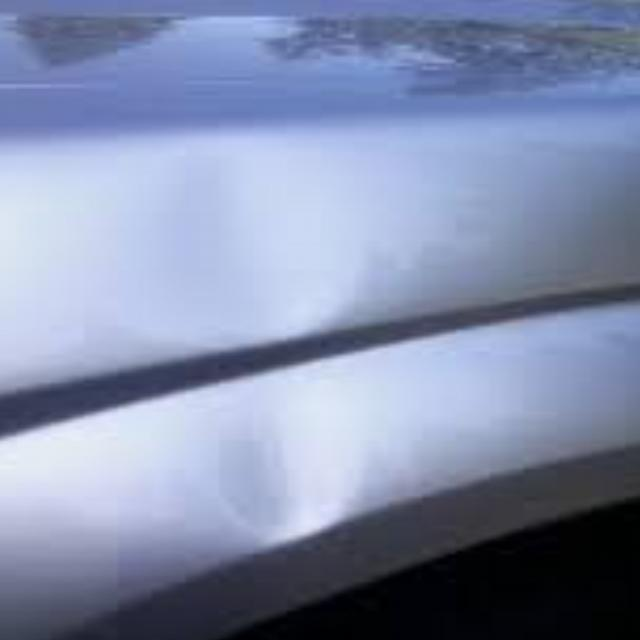dents: (120, 165, 369, 339), (204, 396, 366, 545)
